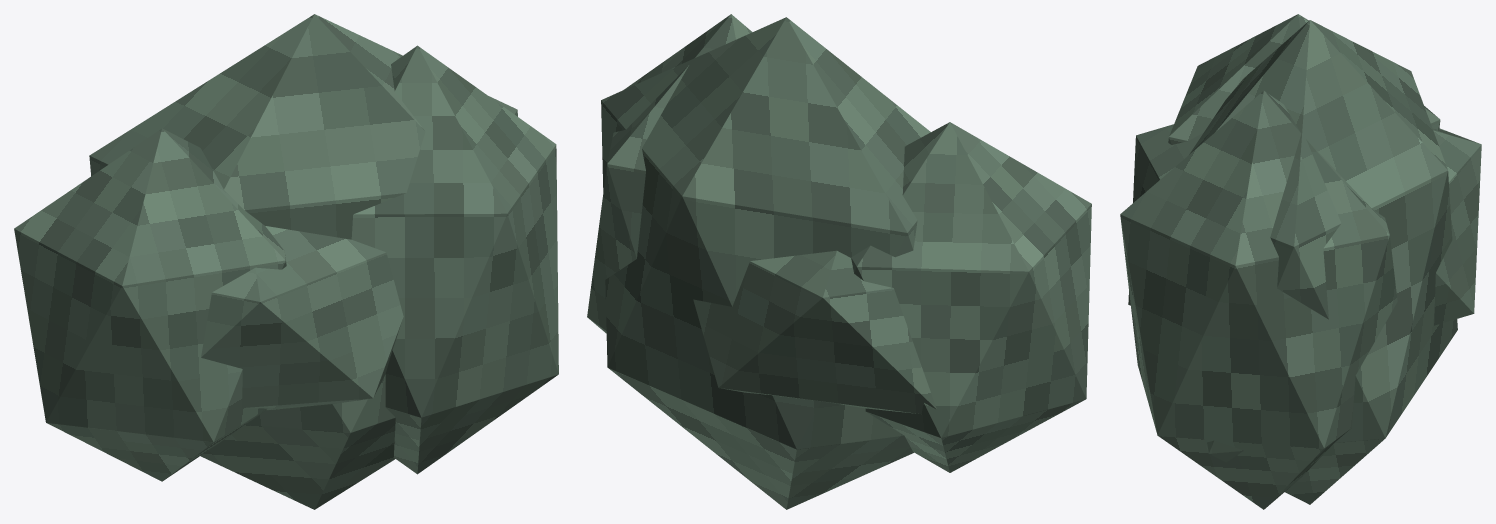
File: ruin_48.glb
3 views of the same model, side by side, from view 1: azimuth 30°, elevation 25°; view 2: azimuth 150°, elevation 25°; view 3: azimuth 270°, elevation 25° (orthographic). The views are drawn at different scales.
Parts seen in each view (by area): view 1: WeatheredStone, WeatheredStone.003, WeatheredStone.002, WeatheredStone.001; view 2: WeatheredStone.002, WeatheredStone, WeatheredStone.001, WeatheredStone.003; view 3: WeatheredStone.003, WeatheredStone.002, WeatheredStone.001, WeatheredStone.
Part boxes in pixels (left/top/right/bottom): WeatheredStone: left=14, top=128, right=286, bottom=481; WeatheredStone.003: left=351, top=45, right=558, bottom=474; WeatheredStone.002: left=89, top=14, right=517, bottom=509; WeatheredStone.001: left=201, top=226, right=403, bottom=410; WeatheredStone.002: left=601, top=17, right=930, bottom=509; WeatheredStone: left=851, top=122, right=1091, bottom=472; WeatheredStone.001: left=693, top=250, right=936, bottom=414; WeatheredStone.003: left=587, top=14, right=752, bottom=333; WeatheredStone.003: left=1120, top=90, right=1397, bottom=509; WeatheredStone.002: left=1189, top=20, right=1457, bottom=504; WeatheredStone.001: left=1128, top=124, right=1481, bottom=325; WeatheredStone: left=1168, top=14, right=1440, bottom=144.
Bounding box in the file's own units: 2.78 × 2.69 × 1.82.
1 material, 1 textured.
